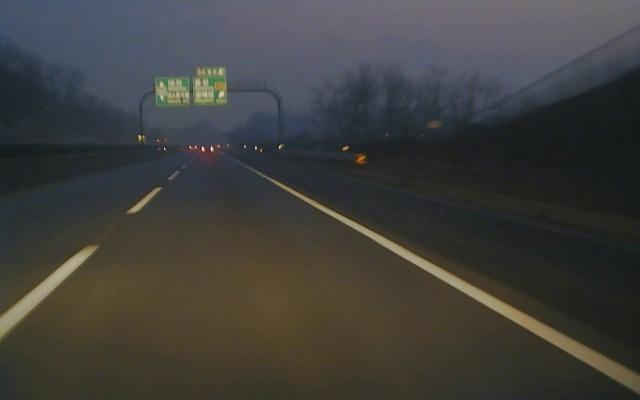lane: (249, 168, 640, 395), (0, 165, 186, 339)
